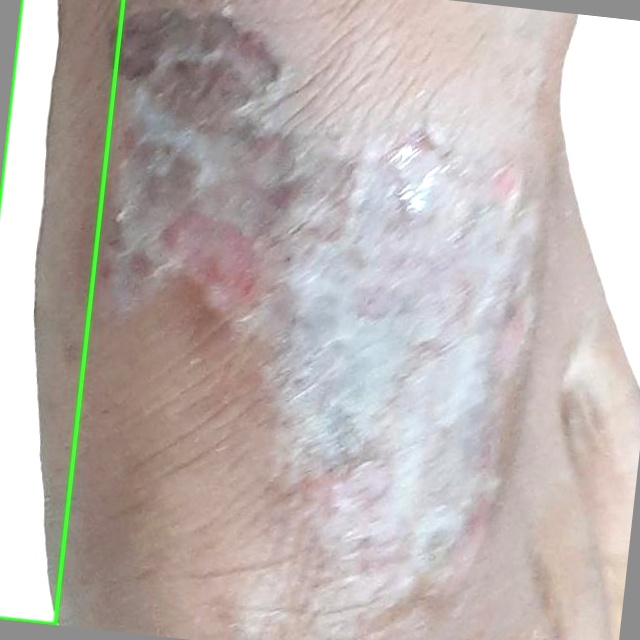Contact Dermatitis: (0, 0, 123, 624)
